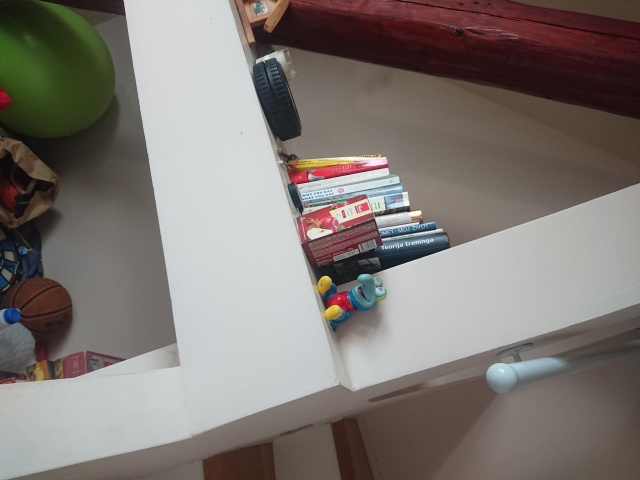Franck Apple Cinnamon Tea 60g: (294, 193, 384, 270)
